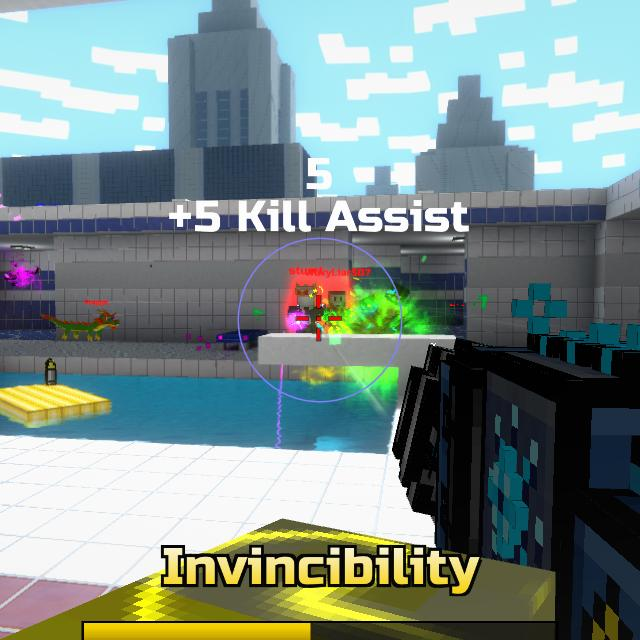Enemy: (289, 286, 352, 336)
